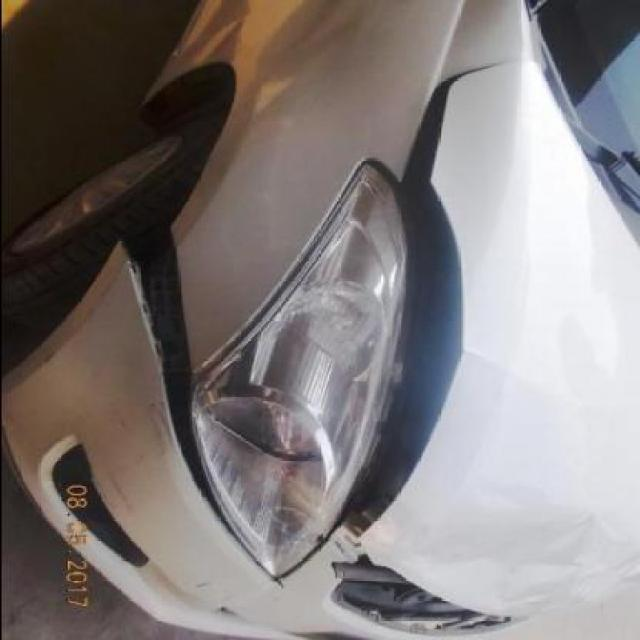damage: (340, 68, 491, 542), (110, 222, 276, 586), (365, 521, 636, 616), (102, 396, 153, 475), (140, 398, 173, 463), (100, 465, 133, 515), (88, 469, 116, 515)
